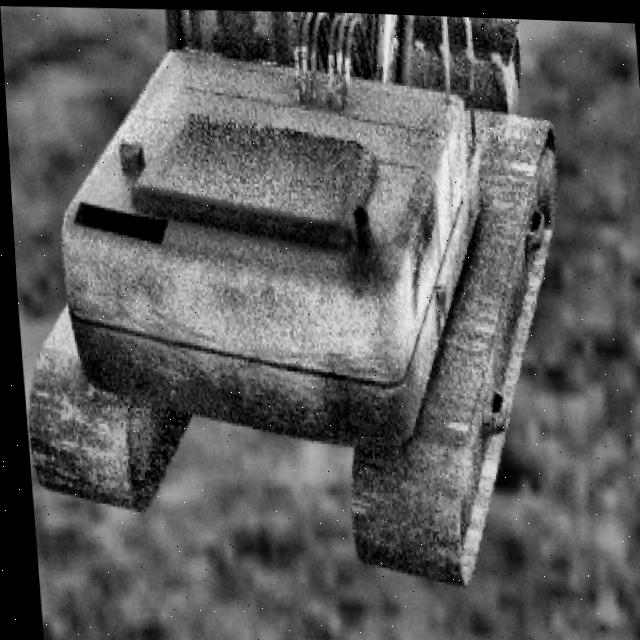excavator: (0, 0, 579, 594)
